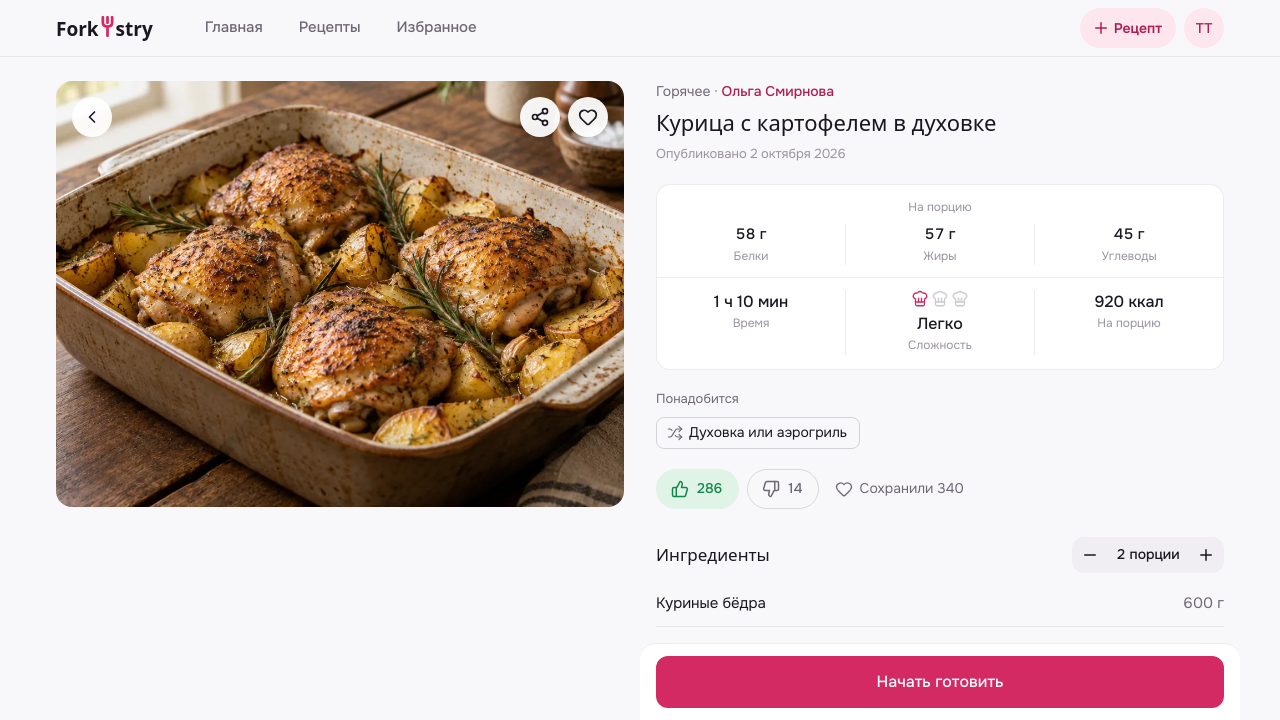
Test case: страница рецепта › избранное у вошедшего — запись в API и счётчик «Сохранили»
Expected: the heading "Курица с картофелем в духовке" is shown, [656,107,996,137]
What coordinates should you click on to do the following:
click the button named "В избранное"
I would click on:
 (588, 117)
Its box is [568,97,608,137].
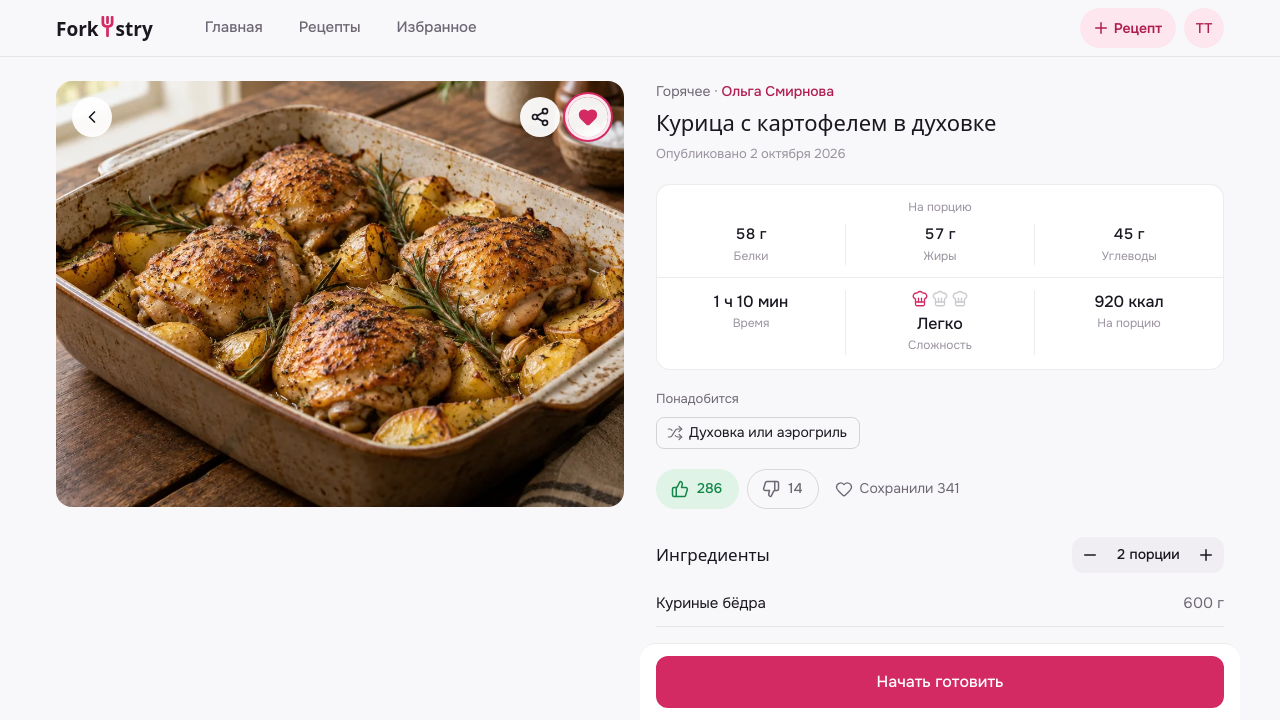
Expected: the text "Сохранили 341" is shown, [827,478,960,499]
